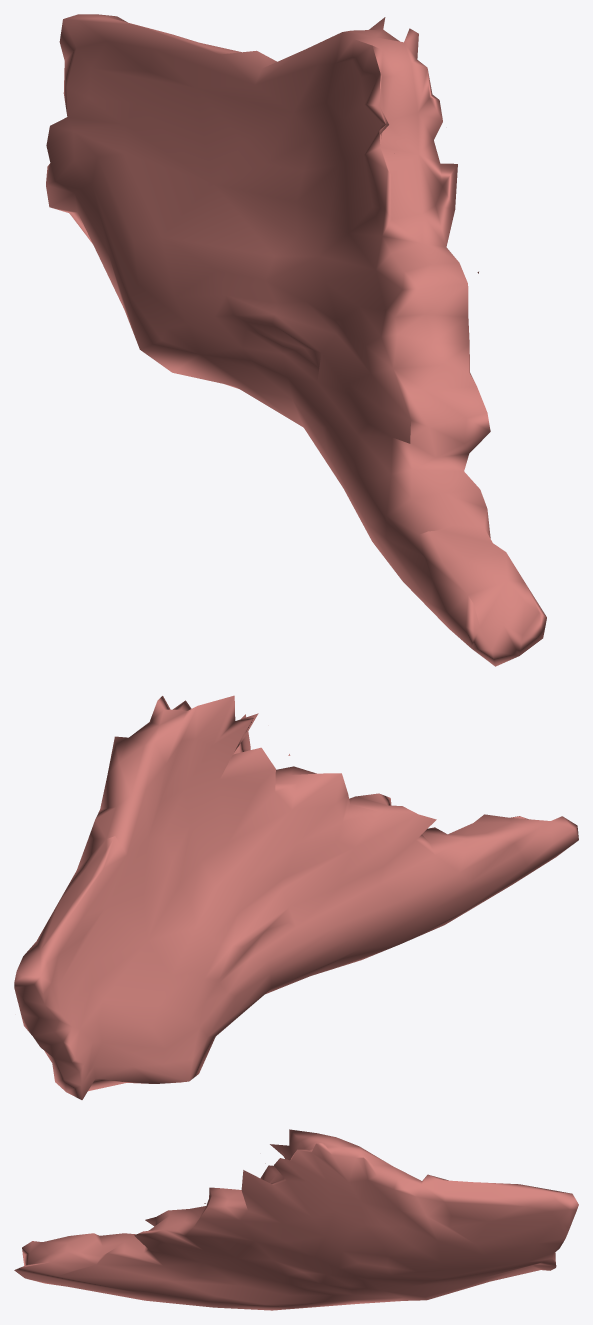
Rendered from fma48960_mm1288.glb.
3 renders of one model, top to bottom at view 1: azimuth 30°, elevation 25°; view 2: azimuth 150°, elevation 25°; view 3: azimuth 270°, elevation 25°, orthographic. The views are drawn at different scales.
Parts seen in each view (by area): view 1: FMA48960_MM1288; view 2: FMA48960_MM1288; view 3: FMA48960_MM1288.
Part boxes in pixels (box(x1,y1,x2,y2)): FMA48960_MM1288: box(46, 14, 546, 666); FMA48960_MM1288: box(14, 695, 578, 1099); FMA48960_MM1288: box(14, 1129, 578, 1310).
Size of the model in its own units: 0.0112 by 0.0161 by 0.0428.
